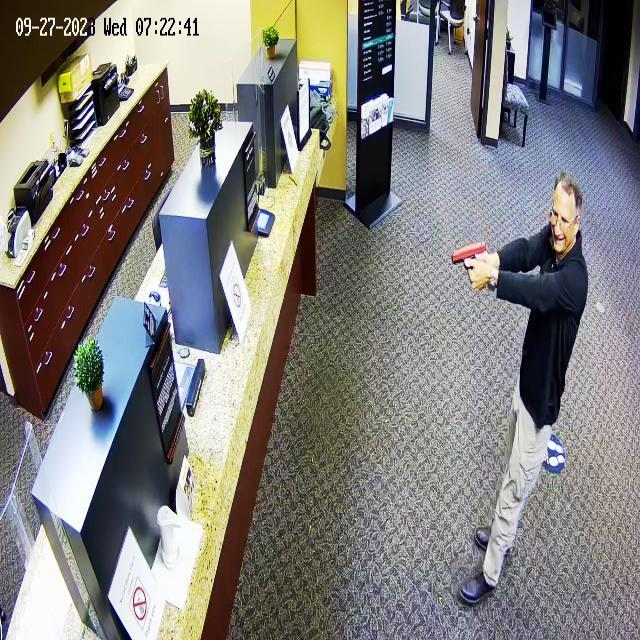Gun: (437, 232, 500, 298)
